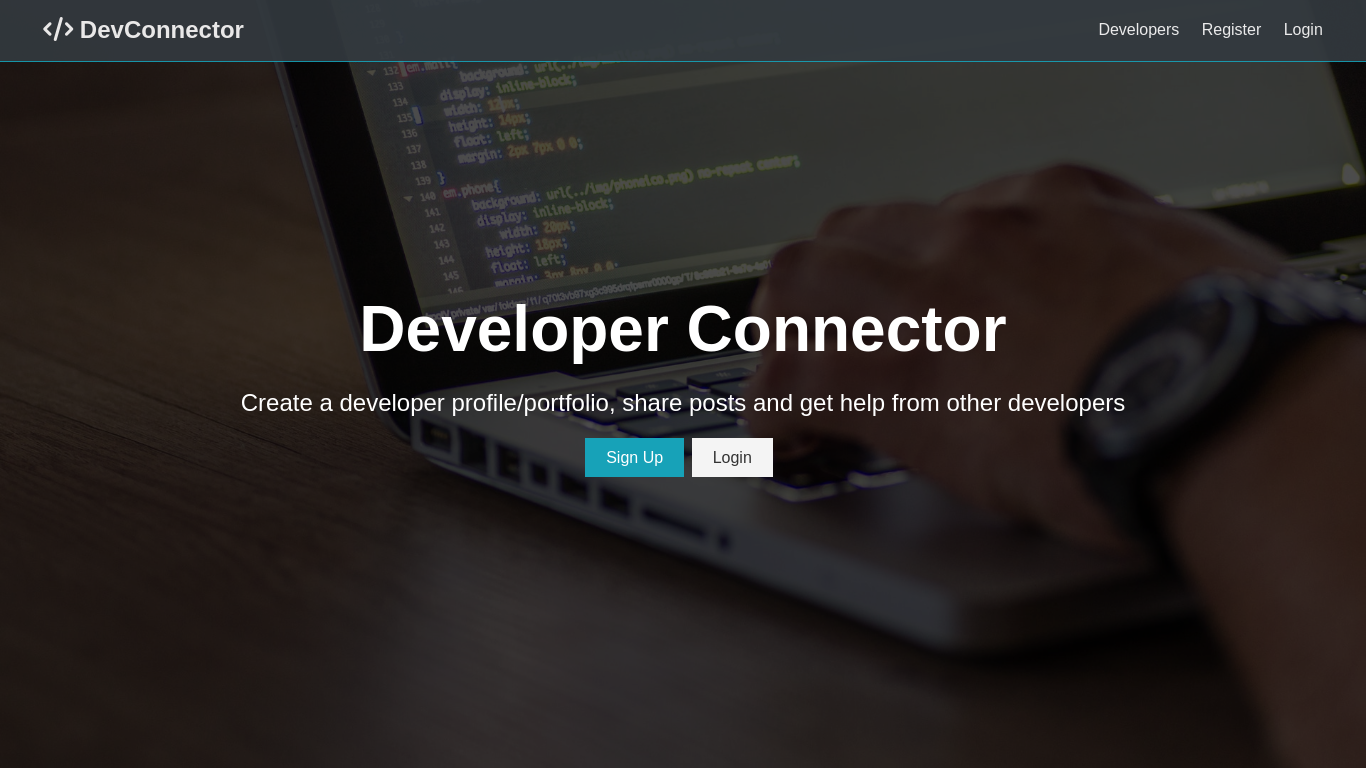
Test: My First Test › clicks an element
The width and height of the screenshot is (1366, 768).
expect the heading "Developer Connector" is shown: met, box [359,291,1007,368]
Click the link "Sign Up" at (635, 457), box [585,438,684,476]
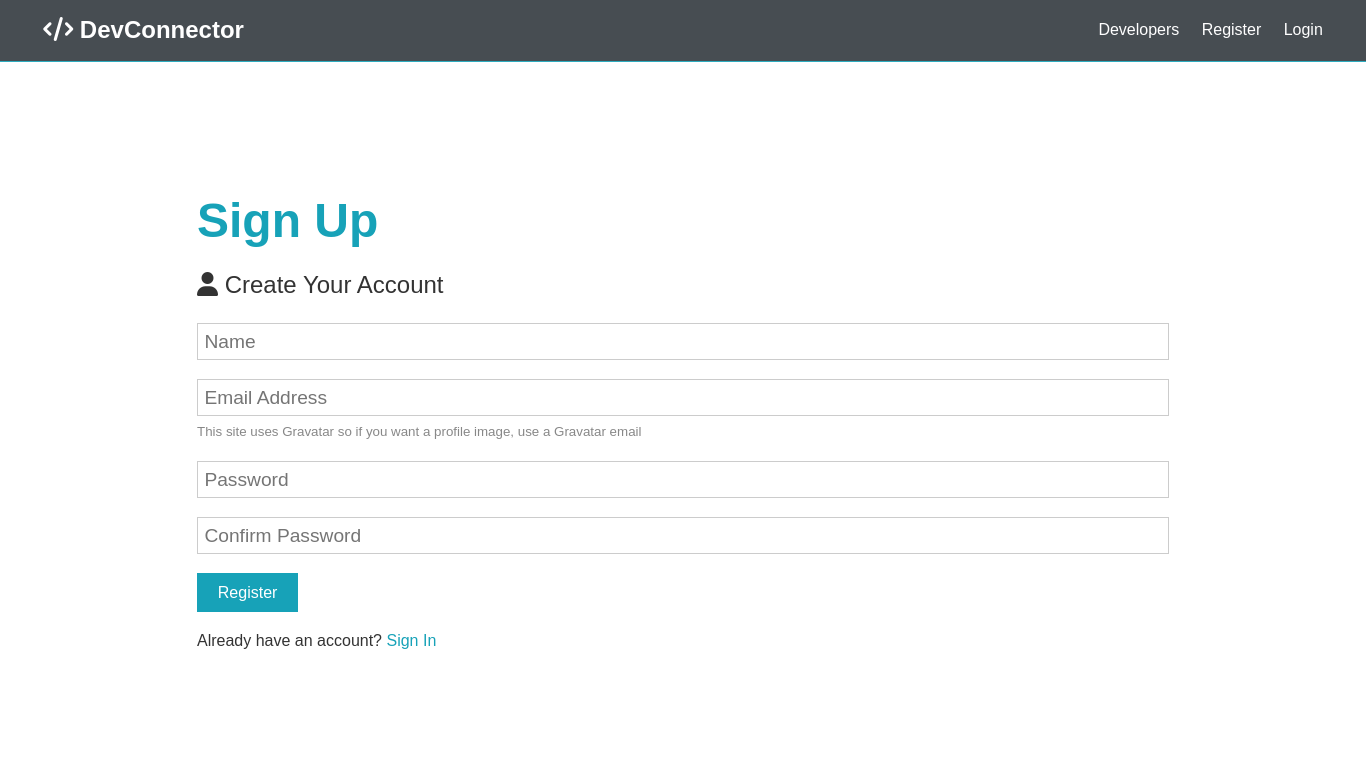
Click the link "DevConnector" at (144, 30), box [36,9,251,50]
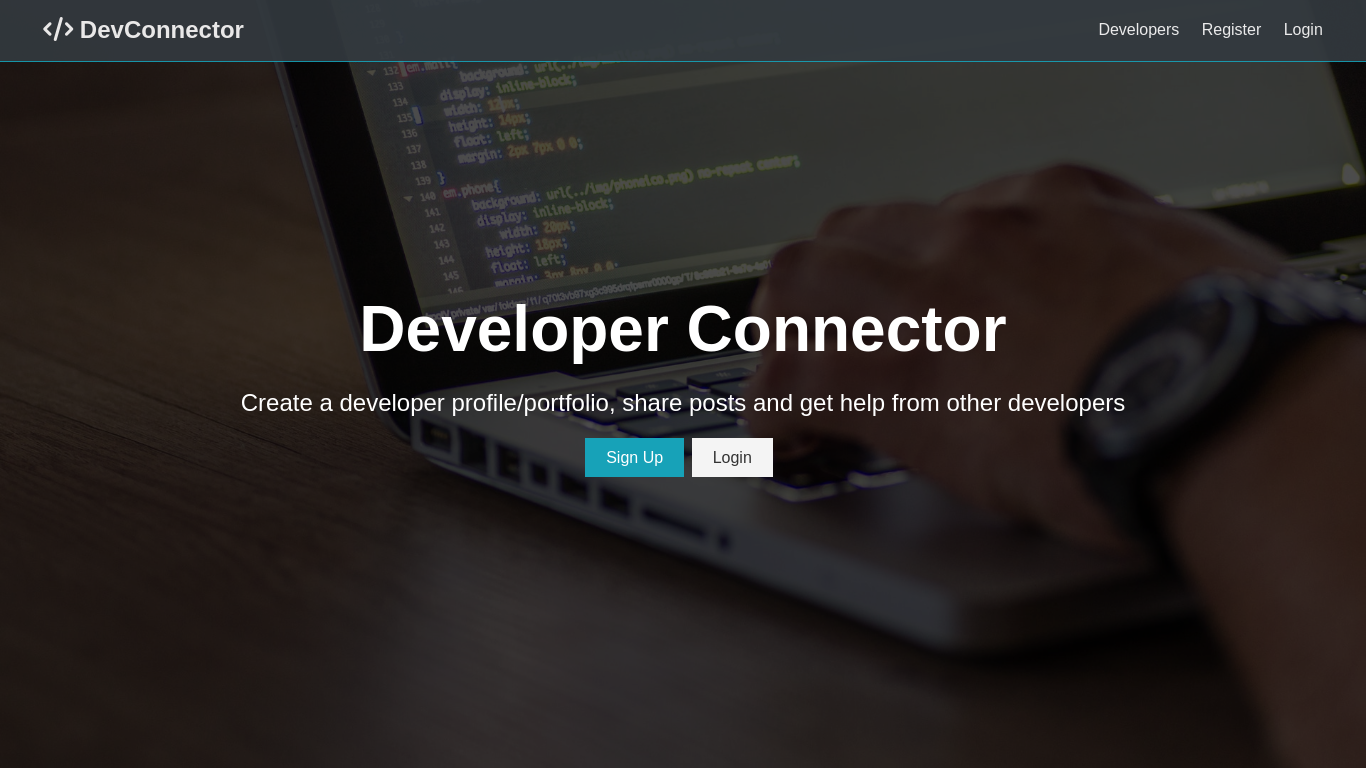
expect the navigation bar is shown: met, box [0,0,1365,62]
expect the link "Login" next to "Sign Up" is shown: met, box [692,438,773,476]
